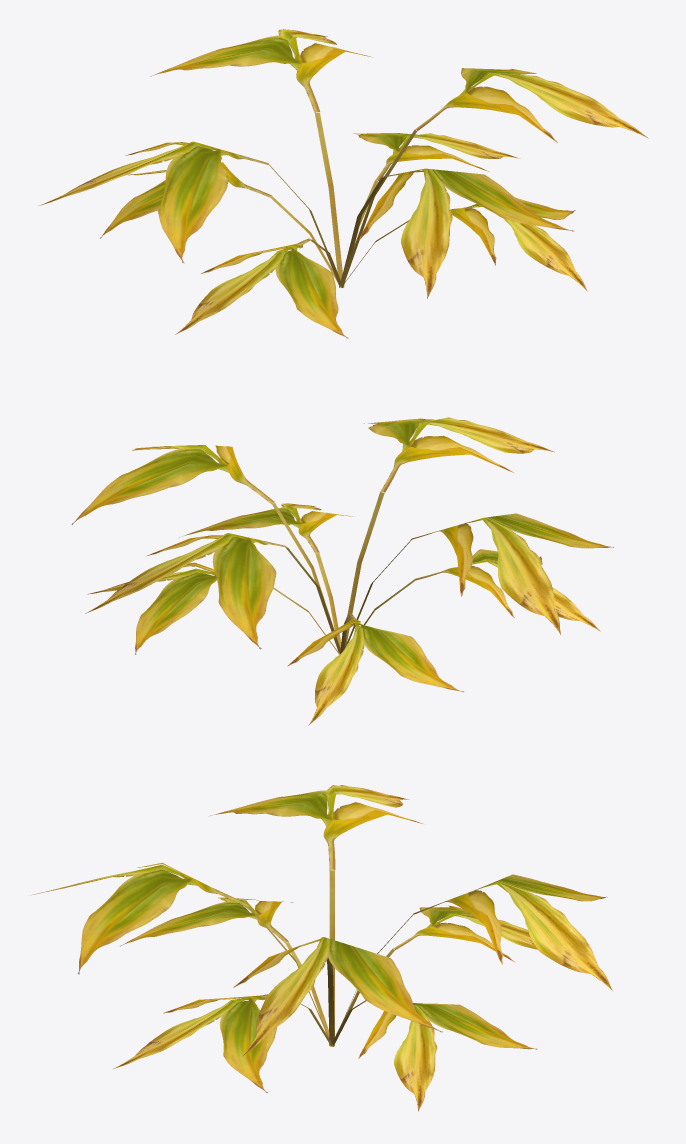
File: plant_019.dae
3 renders of one model, top to bottom at view 1: azimuth 30°, elevation 25°; view 2: azimuth 150°, elevation 25°; view 3: azimuth 270°, elevation 25°, orthographic. The views are drawn at different scales.
Parts seen in each view (by area): view 1: Plant_019; view 2: Plant_019; view 3: Plant_019.
Boxes of the visible parts, box(x1,y1,x2,y2) form: Plant_019: box(39, 29, 648, 338); Plant_019: box(71, 417, 613, 725); Plant_019: box(31, 785, 612, 1111).
Bounding box in the file's own units: 3.53 × 1.1 × 3.61.
